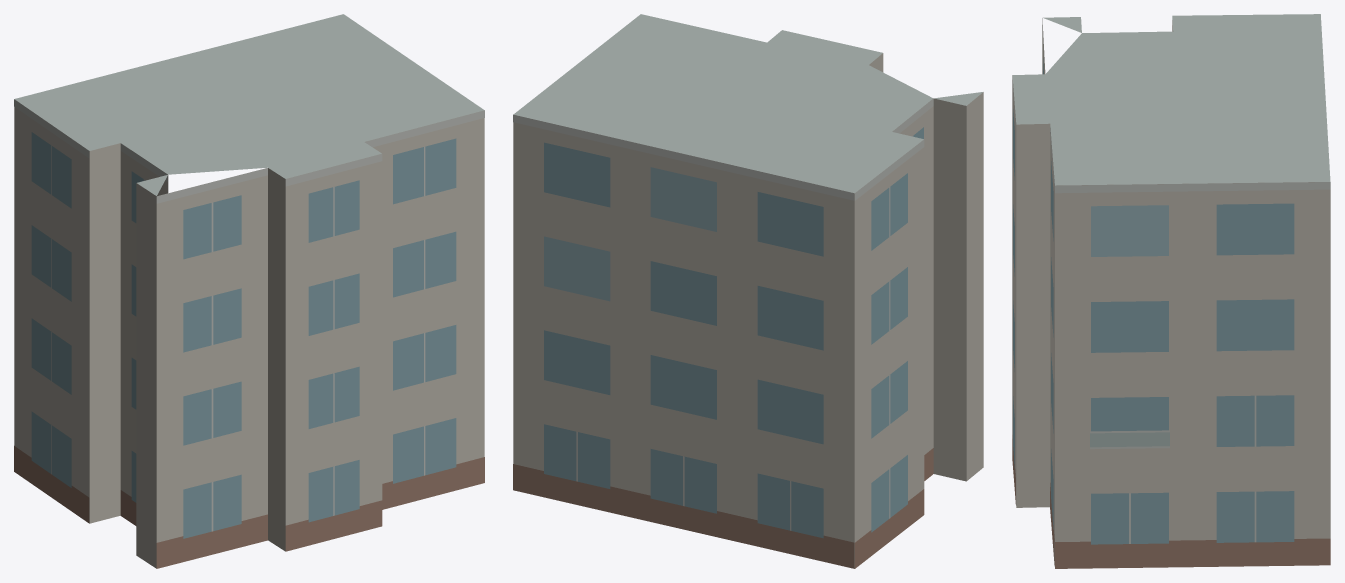
The model's file is survey-upis-32804163.glb.
The picture shows the model from 3 angles, left to right: view 1: azimuth 30°, elevation 25°; view 2: azimuth 150°, elevation 25°; view 3: azimuth 270°, elevation 25°; orthographic projection. The views are drawn at different scales.
Parts seen in each view (by area): view 1: survey-upis-32804163.tmp; view 2: survey-upis-32804163.tmp; view 3: survey-upis-32804163.tmp.
Part boxes in pixels (x1,y1,x2,y2): survey-upis-32804163.tmp: [14, 14, 484, 568]; survey-upis-32804163.tmp: [513, 14, 983, 568]; survey-upis-32804163.tmp: [1012, 14, 1330, 568].
Size of the model in its own units: 11.55 by 12.02 by 9.05.
